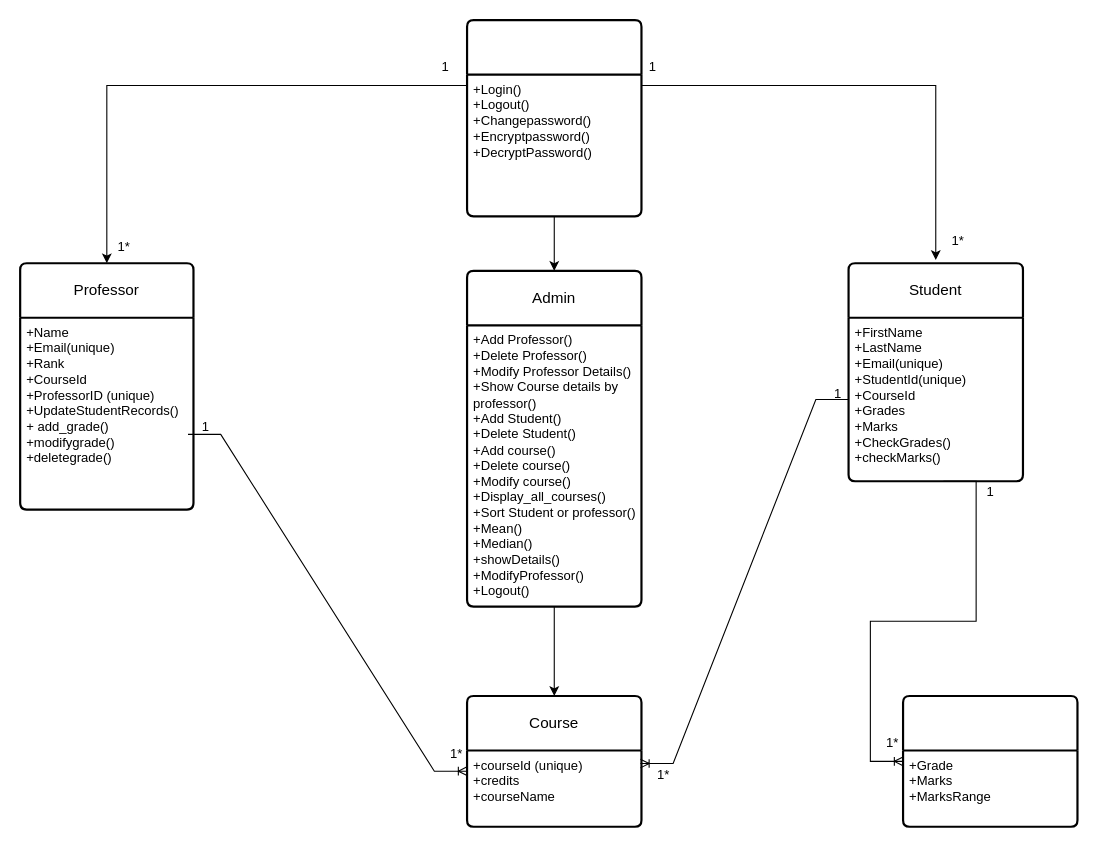
The diagram is 1097 pixels wide and 846 high, and some of its shapes have lost their labels. Each missing label, with the box of its shape:
GradeApp: (465, 19, 642, 217)
Grades: (901, 694, 1078, 827)
